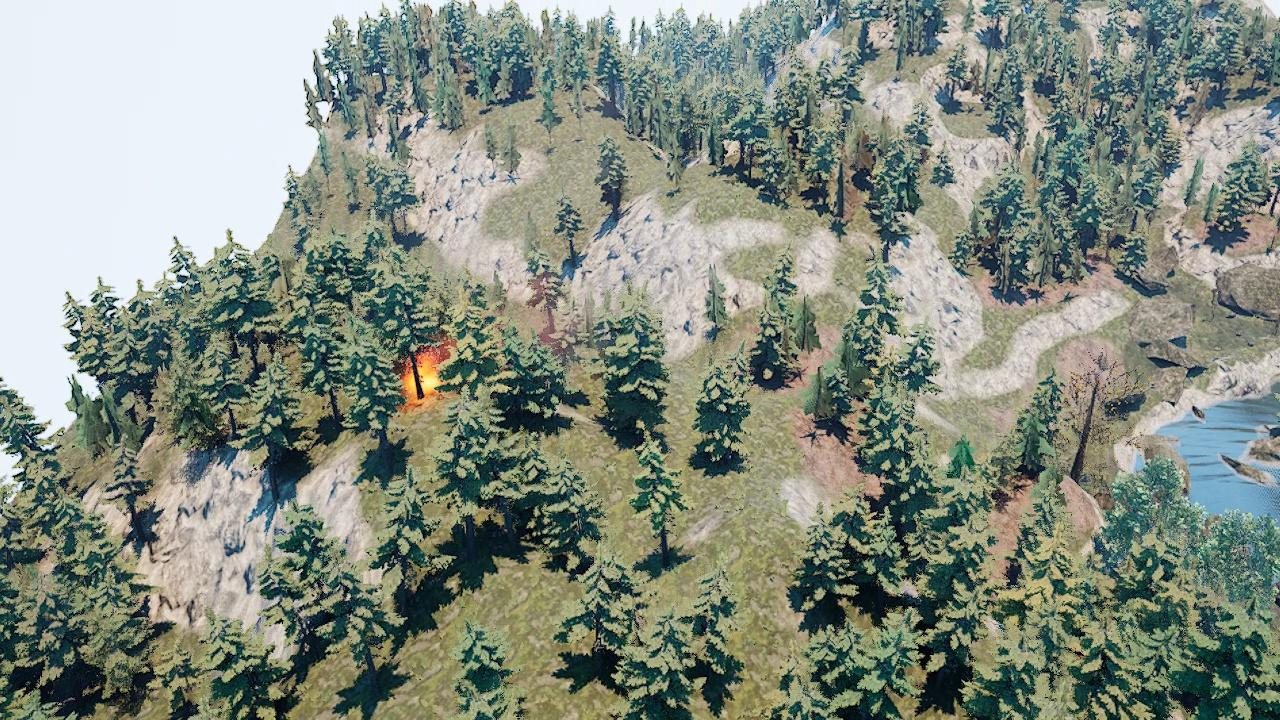fire: (403, 348, 448, 406)
